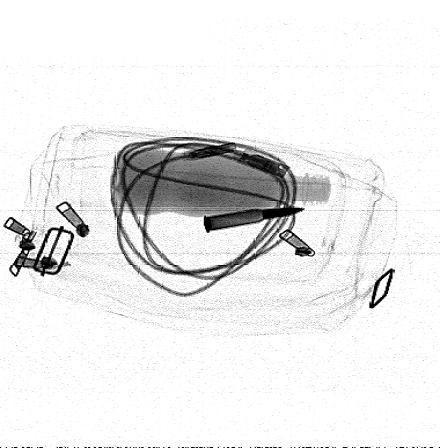Bullet: (201, 206, 310, 234)
